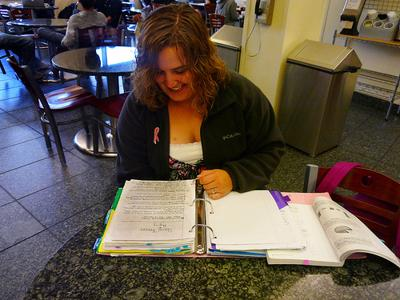person: (114, 6, 280, 201)
